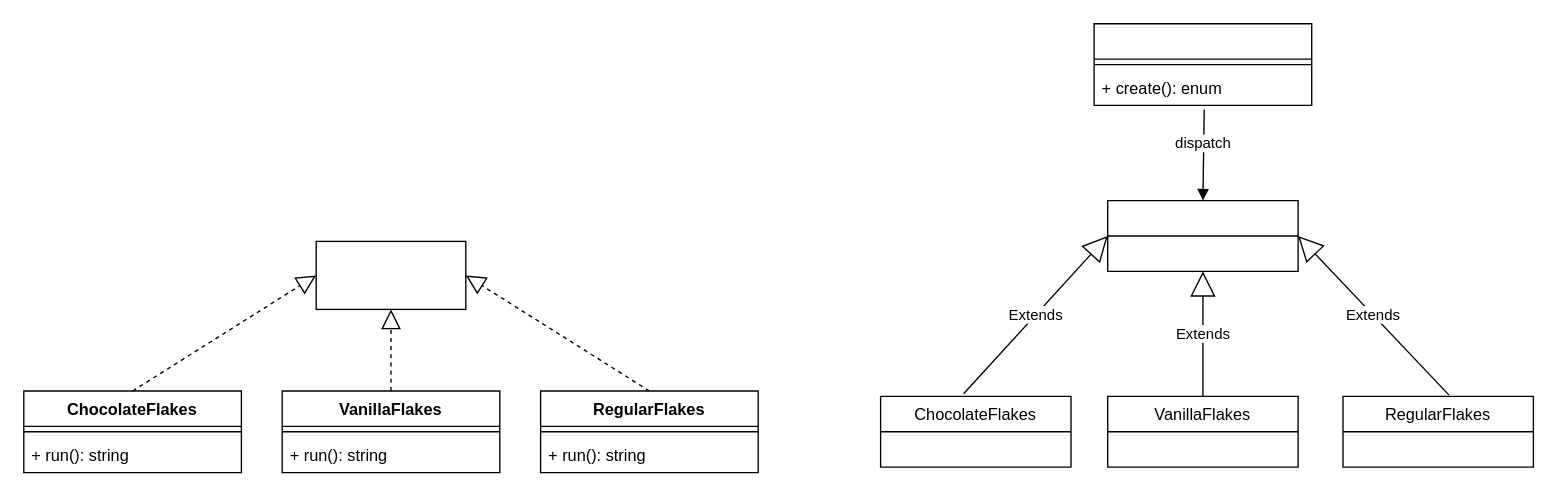
The diagram is 1557 pixels wide and 500 high, and some of its shapes have lost their labels. The box of each missing label's shape, as (x1, y1, x2, y2) in pixels:
ConcreteProduct: (1106, 199, 1298, 271)
FlakesFactory: (1093, 22, 1312, 105)
«interface» Flakes: (315, 240, 466, 309)
